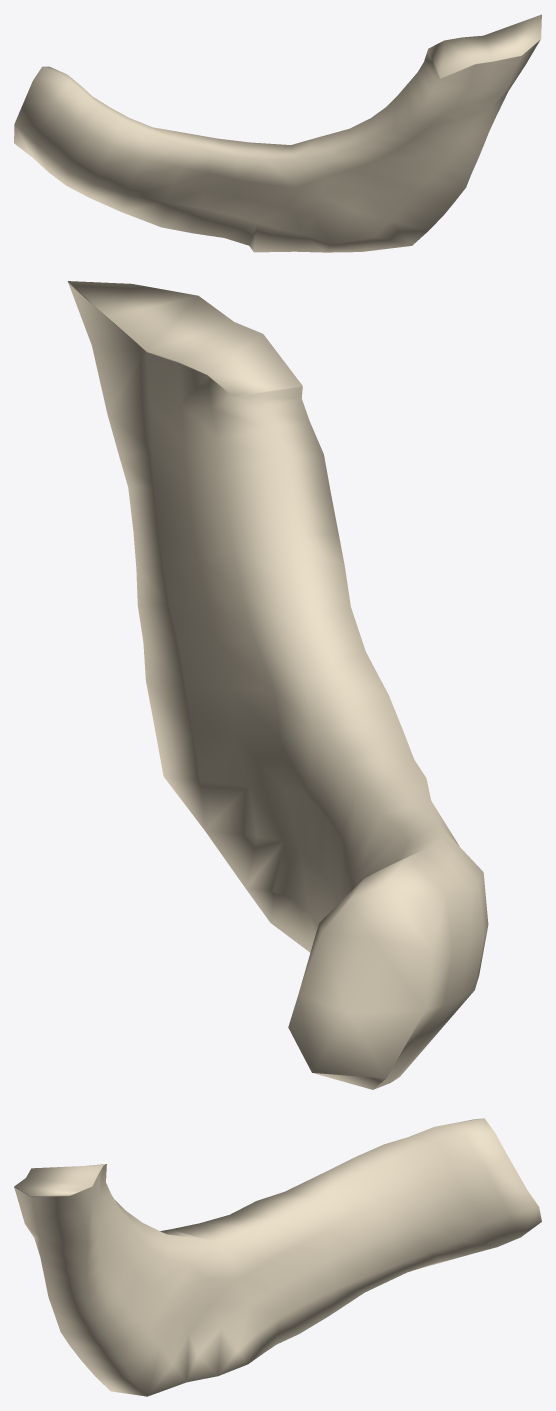
The model's file is costal-cartilage-of-ninth-rib-r.glb.
3 views of the same model, one above another, from view 1: azimuth 30°, elevation 25°; view 2: azimuth 150°, elevation 25°; view 3: azimuth 270°, elevation 25° (orthographic). The views are drawn at different scales.
Parts seen in each view (by area): view 1: Costal cartilage of ninth rib.r; view 2: Costal cartilage of ninth rib.r; view 3: Costal cartilage of ninth rib.r.
Part boxes in pixels (<box>): Costal cartilage of ninth rib.r: <box>14,14,541,252</box>; Costal cartilage of ninth rib.r: <box>67,281,488,1089</box>; Costal cartilage of ninth rib.r: <box>14,1118,541,1396</box>.
Size of the model in its own units: 0.064 by 0.0401 by 0.0682.
